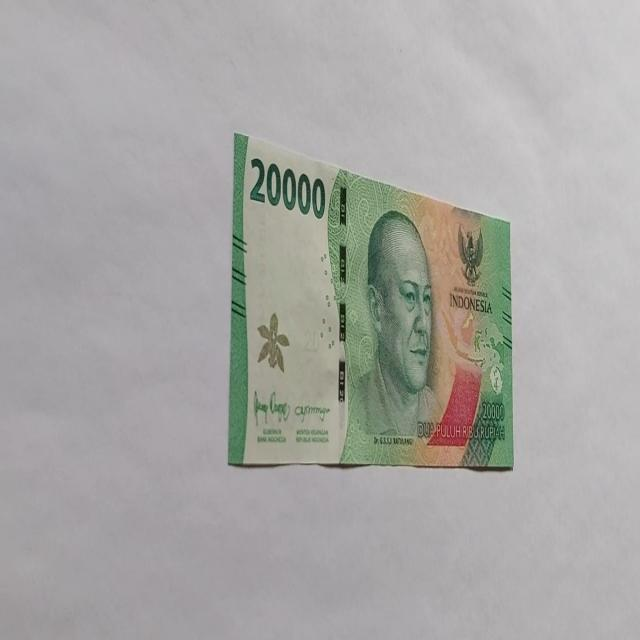dua puluh ribu rupiah: (228, 132, 514, 470), (338, 207, 482, 466)
